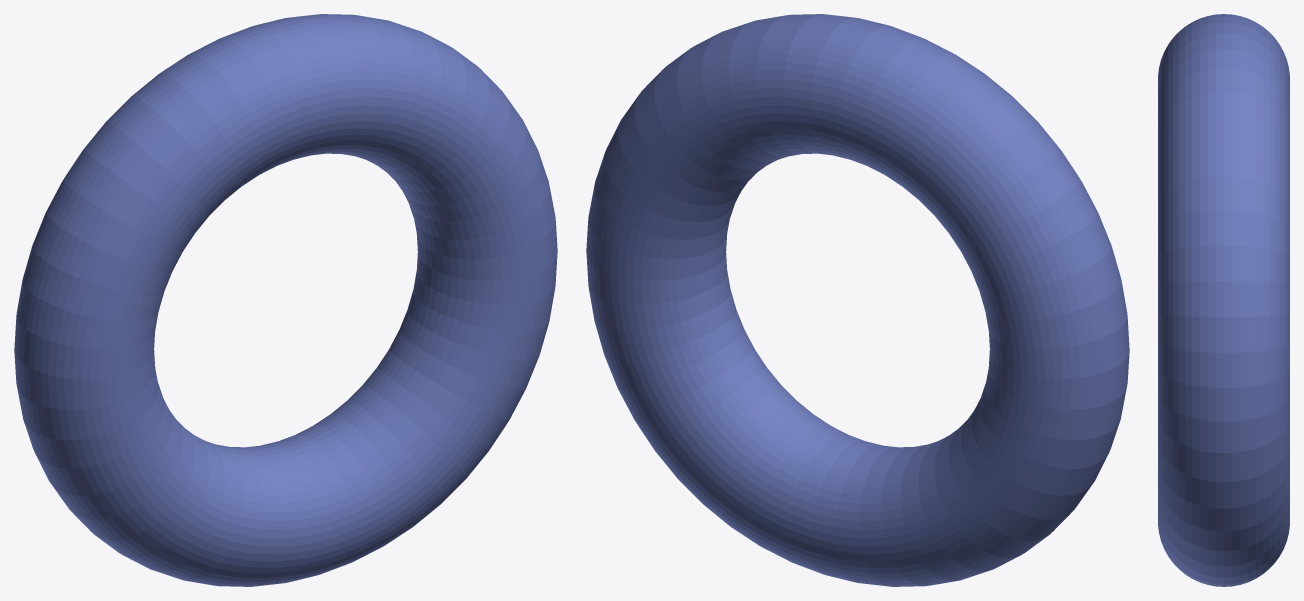
3 views of the same model, side by side, from view 1: azimuth 30°, elevation 25°; view 2: azimuth 150°, elevation 25°; view 3: azimuth 270°, elevation 25° (orthographic). The views are drawn at different scales.
Parts seen in each view (by area): view 1: world; view 2: world; view 3: world.
Boxes of the visible parts, <box> form: world: <box>14,14,557,586</box>; world: <box>586,14,1129,586</box>; world: <box>1158,14,1289,586</box>.
Bounding box in the file's own units: 15.6 × 15.57 × 3.59.
